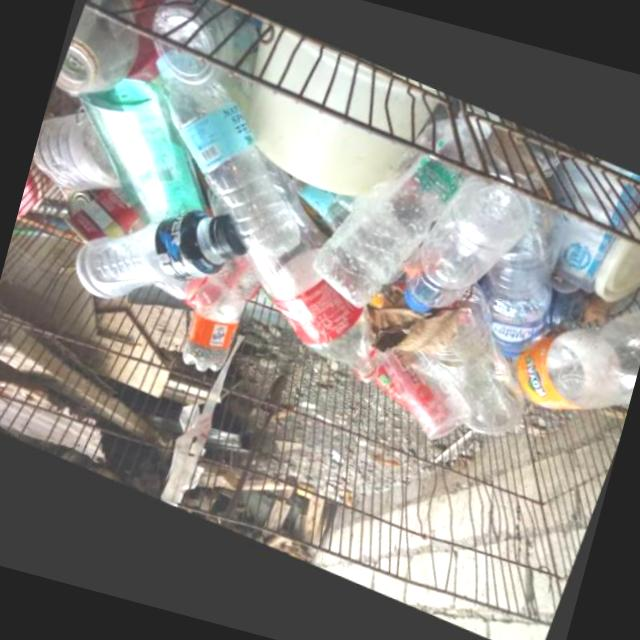chai_nhua: (77, 81, 211, 227)
chai_nhua_pet: (154, 56, 301, 264), (245, 203, 379, 386), (311, 155, 463, 310), (402, 177, 532, 314), (74, 214, 246, 303), (478, 209, 560, 359), (517, 311, 640, 410), (181, 258, 258, 376), (31, 113, 122, 201)
hop_nhua: (254, 29, 438, 144), (247, 90, 405, 198)
